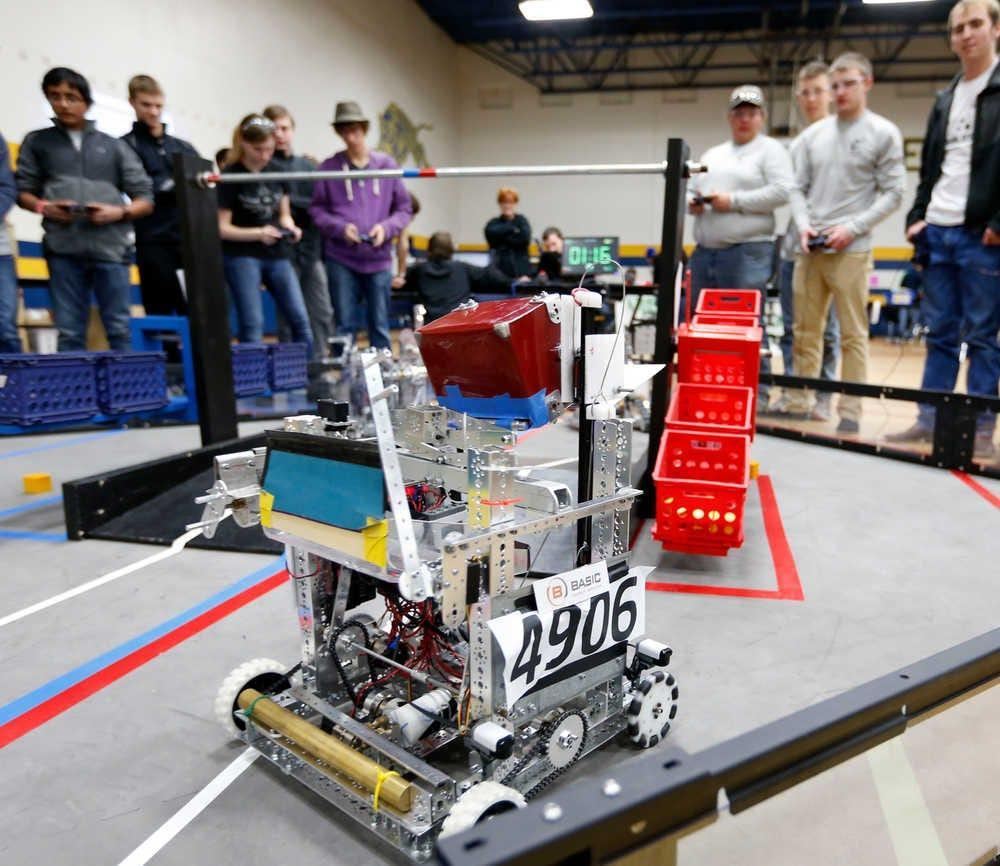robot: (216, 283, 690, 855)
